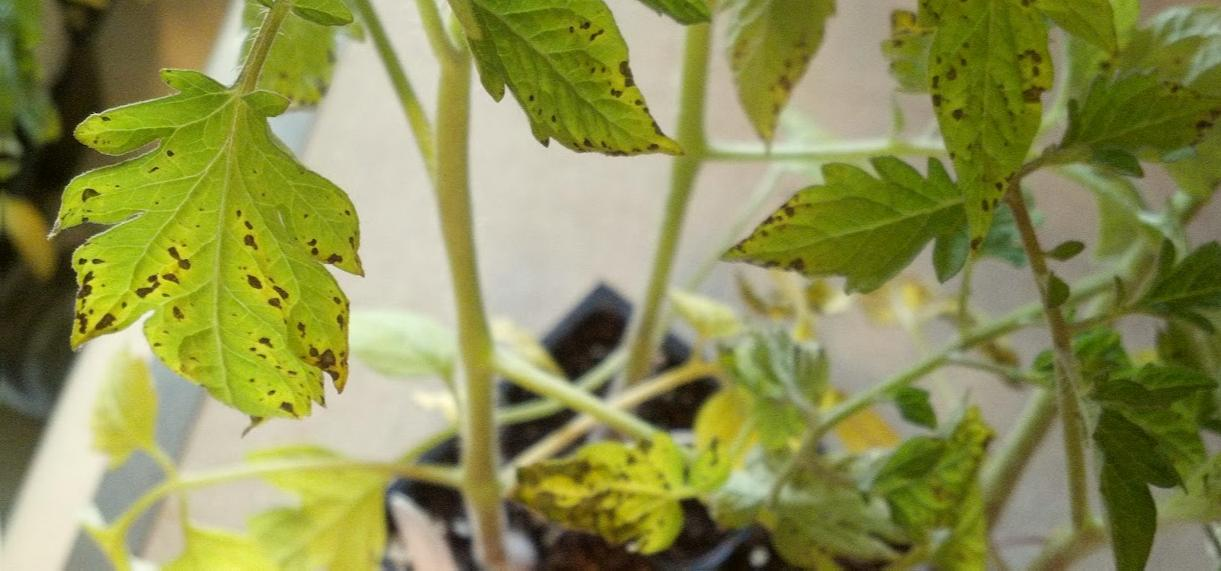Tomato Septoria leaf spot: (51, 95, 373, 473), (890, 0, 1126, 277), (387, 0, 706, 165), (704, 154, 1011, 324), (494, 420, 704, 571)
